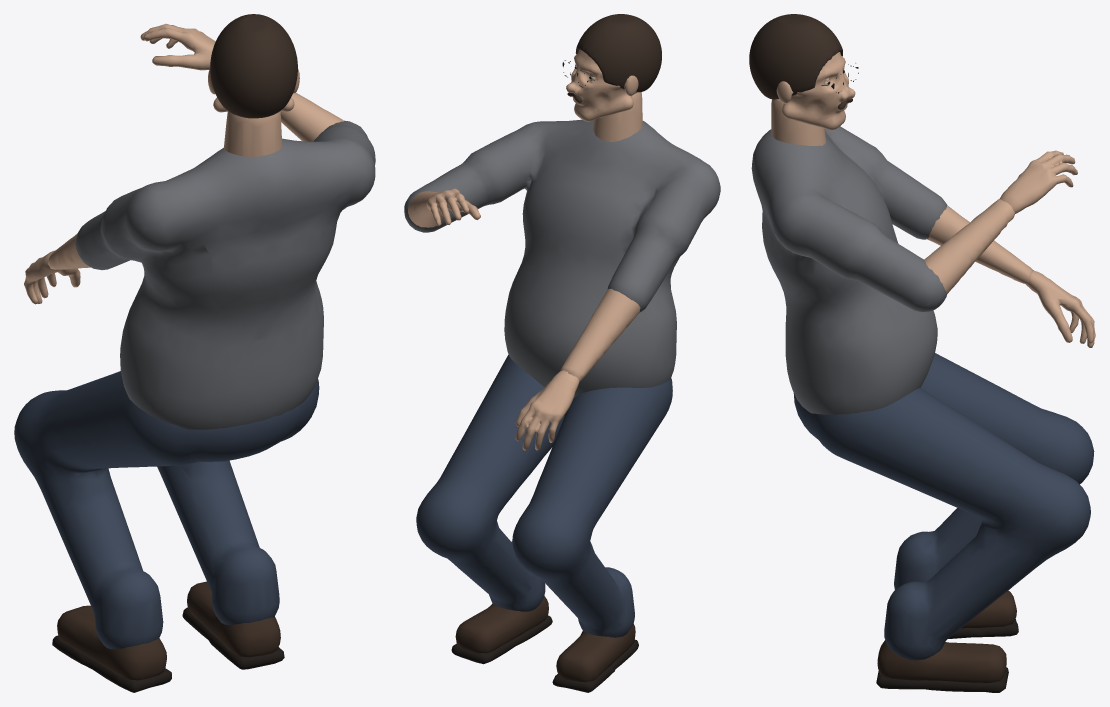
Rendered from glasses.glb.
3 views of the same model, side by side, from view 1: azimuth 30°, elevation 25°; view 2: azimuth 150°, elevation 25°; view 3: azimuth 270°, elevation 25° (orthographic). The views are drawn at different scales.
Parts seen in each view (by area): view 1: glasses_body, glasses_head, glasses_hands; view 2: glasses_body, glasses_head, glasses_hands; view 3: glasses_body, glasses_head, glasses_hands.
Boxes of the visible parts, x1=… form: glasses_body: x1=14, y1=92, x2=375, y2=692; glasses_head: x1=208, y1=14, x2=299, y2=118; glasses_hands: x1=24, y1=23, x2=215, y2=304; glasses_body: x1=404, y1=92, x2=720, y2=692; glasses_head: x1=562, y1=14, x2=661, y2=121; glasses_hands: x1=426, y1=188, x2=579, y2=450; glasses_body: x1=751, y1=99, x2=1094, y2=692; glasses_head: x1=749, y1=14, x2=858, y2=130; glasses_hands: x1=1000, y1=150, x2=1095, y2=347.
Bounding box in the file's own units: 0.6489 × 1.43 × 0.7039.
